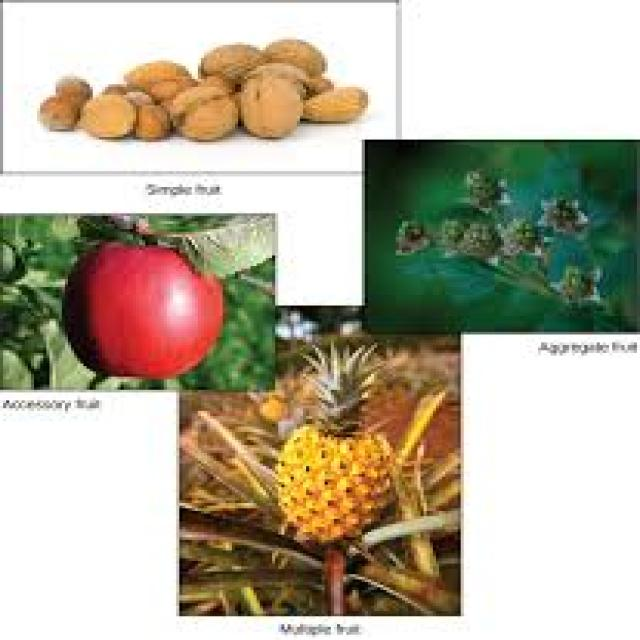Organik: (405, 167, 623, 314), (49, 25, 358, 126), (54, 239, 239, 375), (280, 342, 388, 544)
